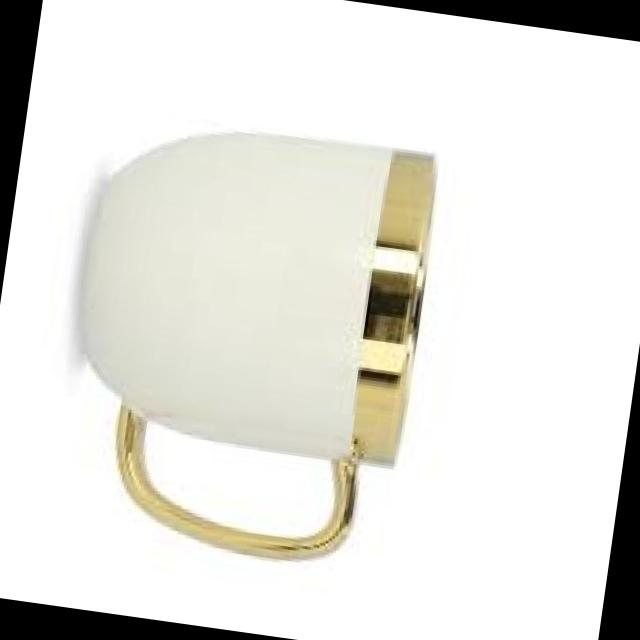Coffee Mug: (46, 108, 445, 578)
